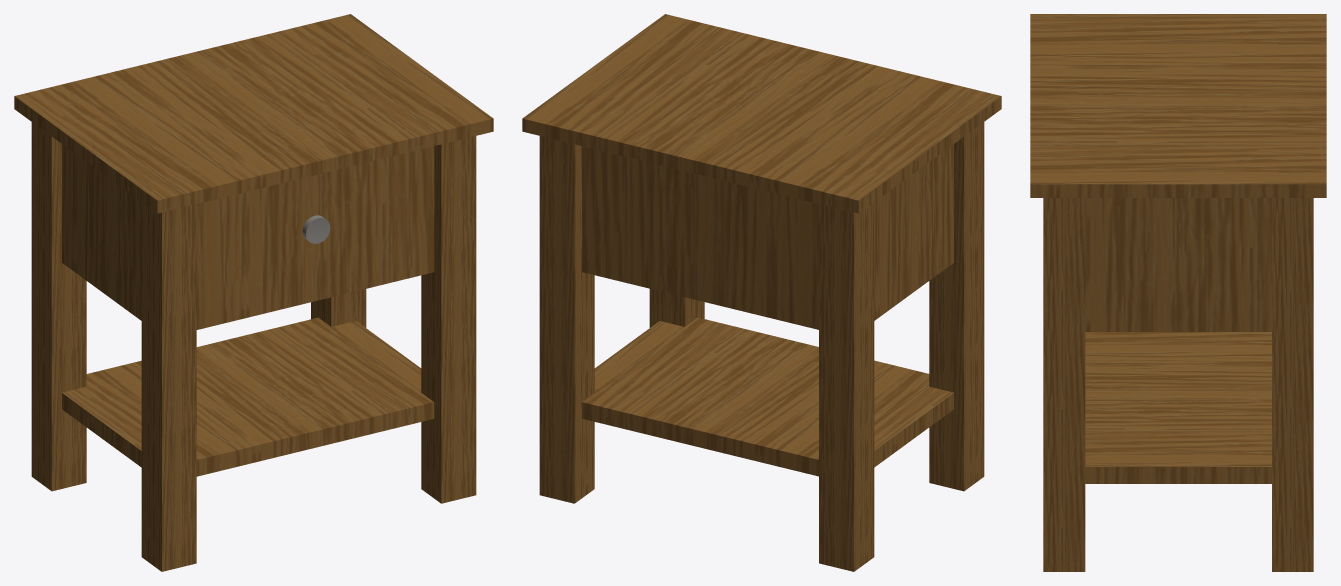
File: Bedside Table.fbx
The picture shows the model from 3 angles, left to right: view 1: azimuth 30°, elevation 25°; view 2: azimuth 150°, elevation 25°; view 3: azimuth 270°, elevation 25°; orthographic projection. The views are drawn at different scales.
Parts seen in each view (by area): view 1: pCube6; view 2: pCube6; view 3: pCube6.
Part boxes in pixels (box(x1,y1,x2,y2)): pCube6: box(14, 14, 493, 571); pCube6: box(522, 14, 1001, 571); pCube6: box(1030, 14, 1326, 571).
Bounding box in the file's own units: 9.63 × 10.36 × 7.08.
